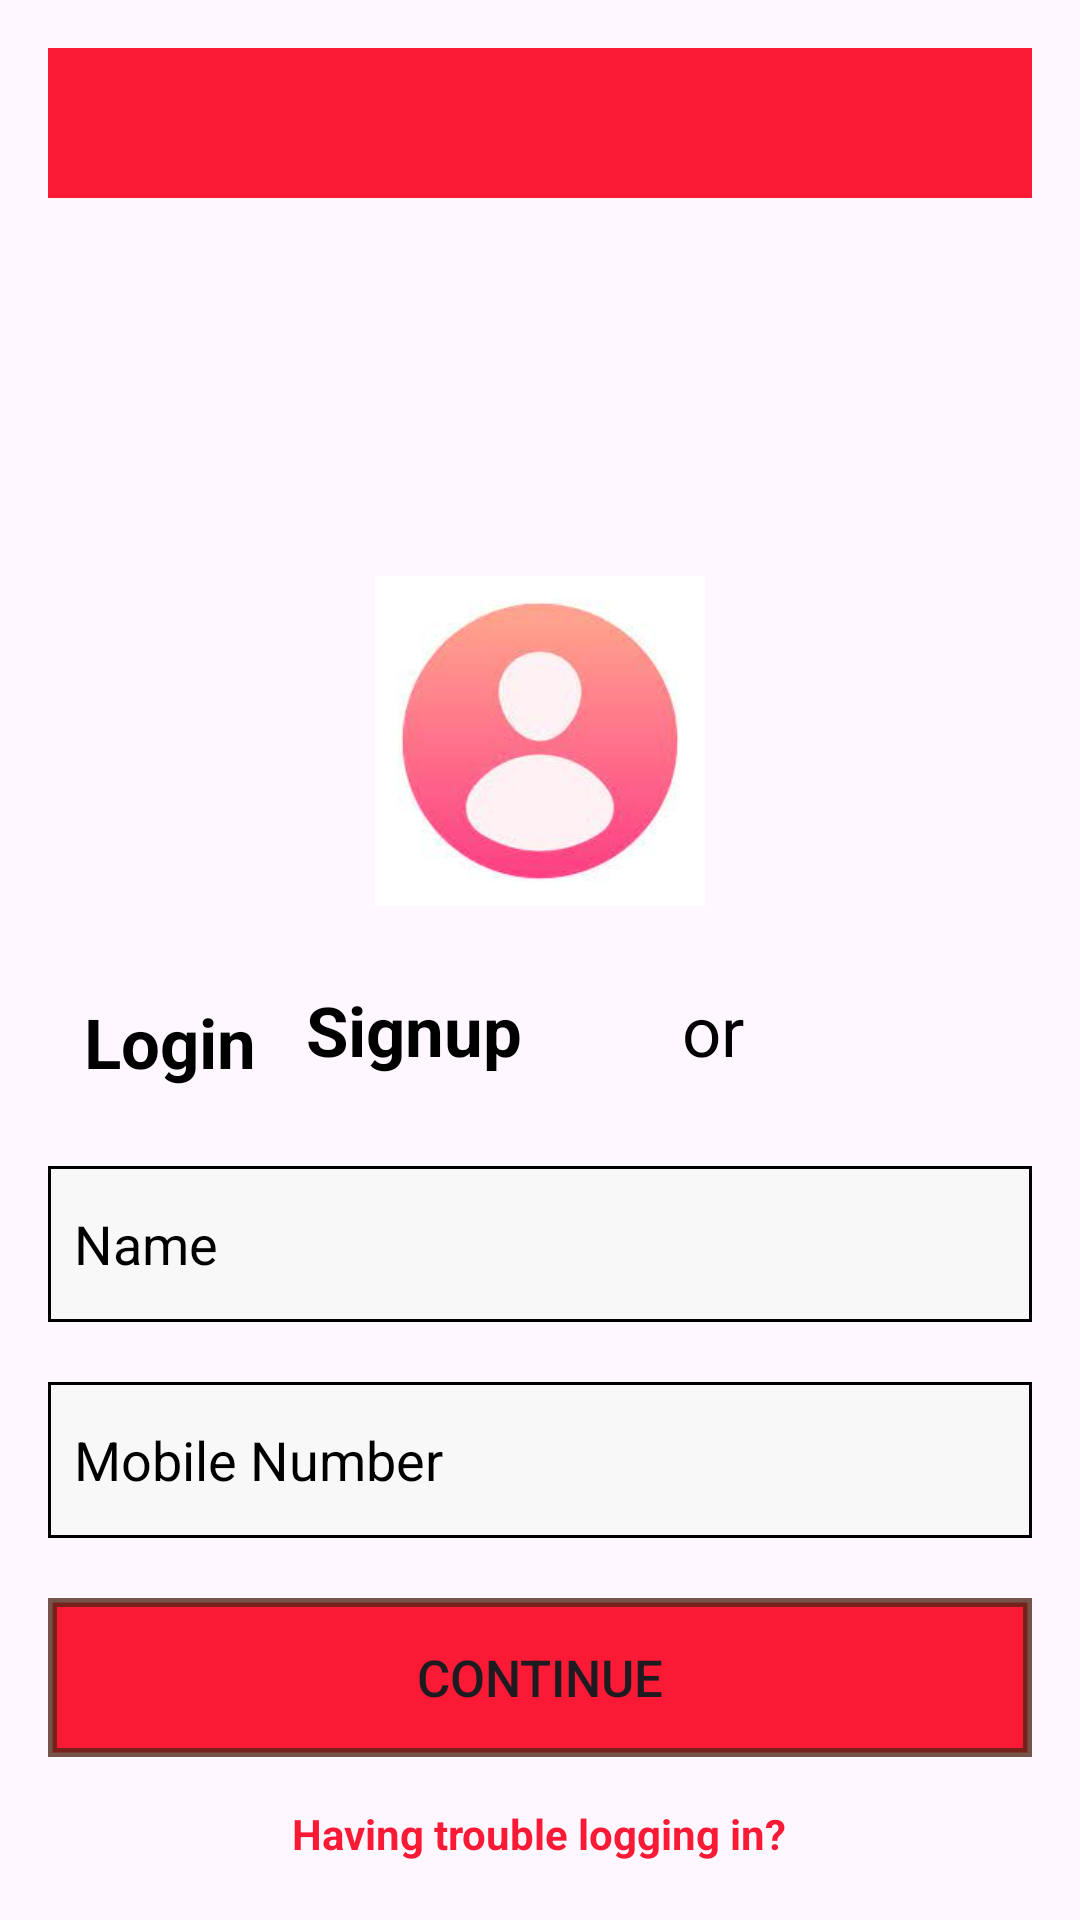

Named icons in this screenshot (1080 x 1920) and their centers, (x=x, y=y):
profile: (x=540, y=741)
